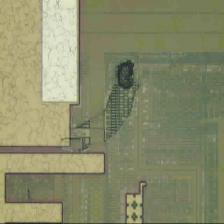PARTICLE: (60, 57, 142, 154)
